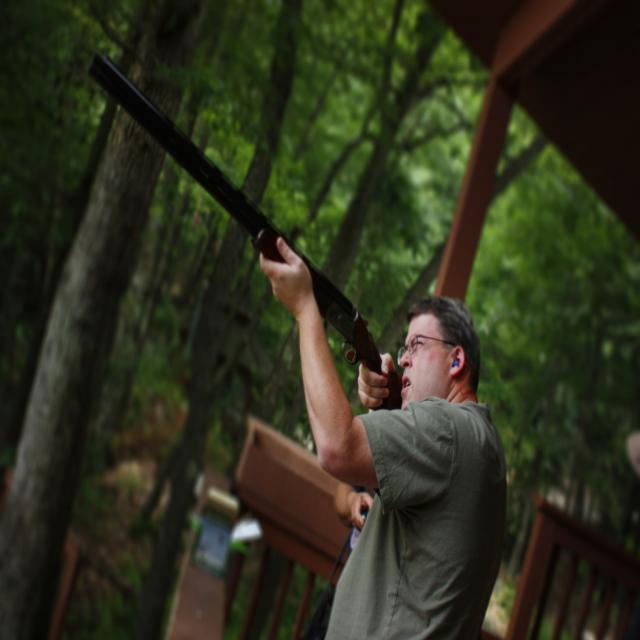weapon: (90, 55, 402, 409)
